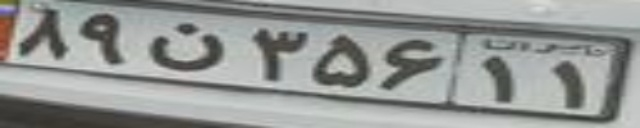1: (548, 58, 587, 109), (482, 54, 513, 104)
3: (252, 26, 307, 82)
5: (309, 31, 372, 88)
6: (382, 38, 442, 90)
8: (16, 8, 68, 61)
9: (77, 11, 126, 66)
non: (145, 22, 226, 69)
